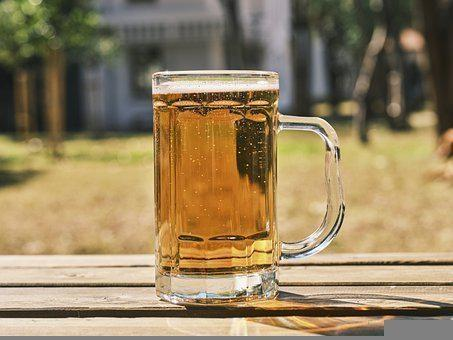glass-mug: (149, 65, 347, 307)
